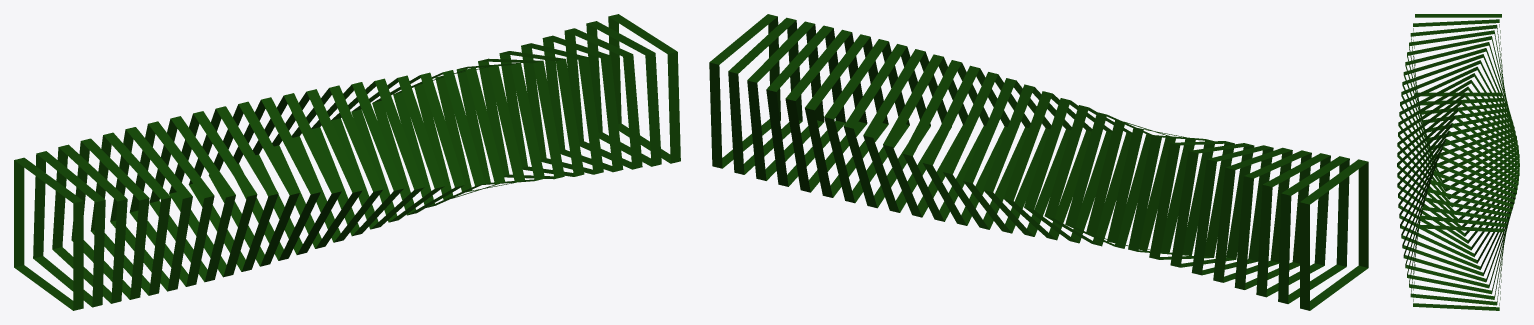
Rendered from tunnel_2.glb.
The picture shows the model from 3 angles, left to right: view 1: azimuth 30°, elevation 25°; view 2: azimuth 150°, elevation 25°; view 3: azimuth 270°, elevation 25°; orthographic projection. The views are drawn at different scales.
Visible parts, largest first — view 1: Cube; view 2: Cube; view 3: Cube.
Boxes of the visible parts, x1=… form: Cube: x1=14, y1=14, x2=680, y2=310; Cube: x1=709, y1=14, x2=1368, y2=310; Cube: x1=1397, y1=14, x2=1519, y2=310.
Bounding box in the file's own units: 11.8 × 2.83 × 2.83.
